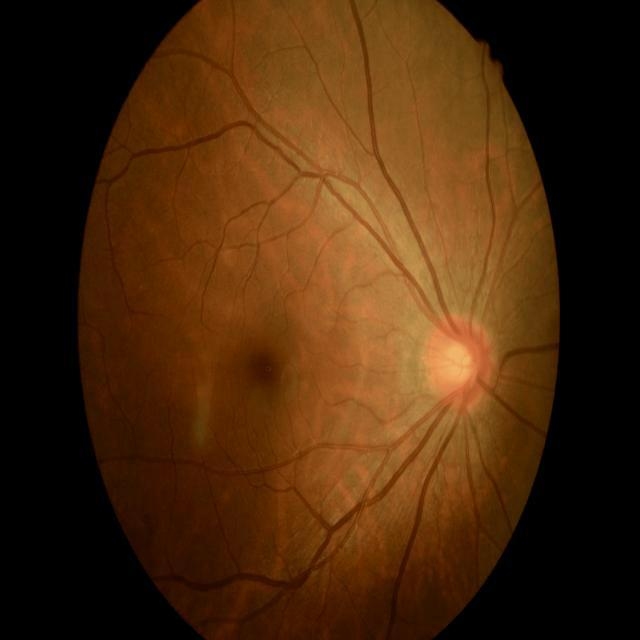cup: (441, 338, 478, 390)
disk: (428, 314, 492, 411)
